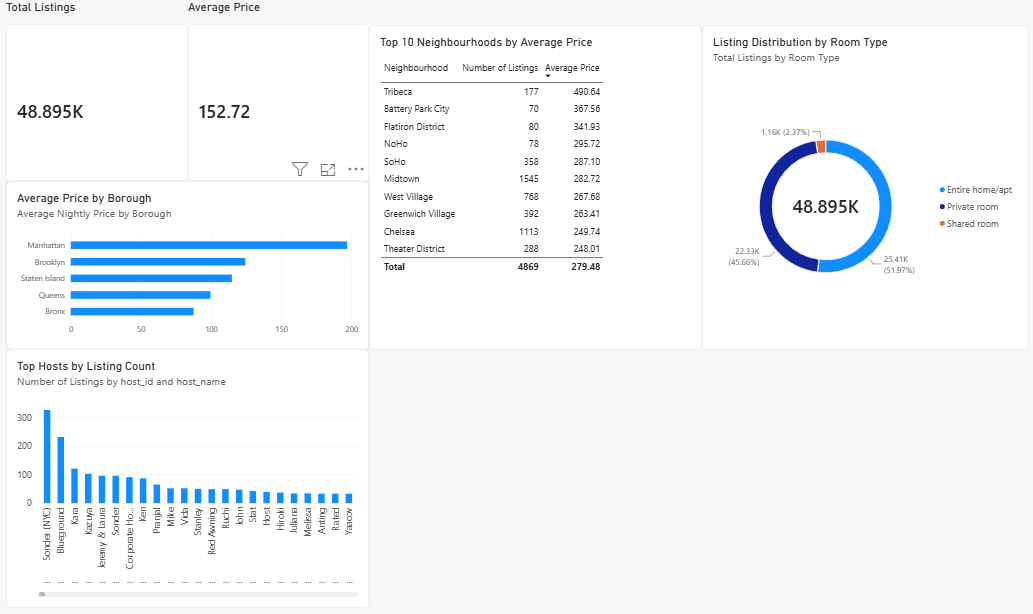

Layout of this report page (visuals, bound fields, positions):
{"tool":"powerbi","page":{"name":"Page 1","canvas":[1920,1080],"ordinal":0},"visuals":[{"type":"cardVisual","title":"Total Listings","fields":{"Data":["CountNonNull(public listings.id)"]},"box":[10,0,280,280],"z":0},{"type":"cardVisual","title":"Average Price","fields":{"Data":["Avg(public listings.price)"]},"box":[289.8,0,280,280],"z":1000},{"type":"clusteredBarChart","title":"Average Price by Borough","fields":{"Category":["public listings.neighbourhood_group"],"Y":["Avg(public listings.price)"]},"box":[9.5,280.3,560.6,259.9],"z":2000},{"type":"donutChart","title":"Listing Distribution by Room Type","fields":{"Category":["public listings.room_type"],"Y":["CountNonNull(public listings.id)"]},"box":[1084.3,38.6,505.1,502],"z":3000},{"type":"tableEx","title":"Top 10 Neighbourhoods by Average Price","fields":{"Values":["public listings.neighbourhood","CountNonNull(public listings.id)","public listings.Qualifying Avg Price"]},"box":[570,38.6,514.4,502],"z":4000},{"type":"columnChart","title":"Top Hosts by Listing Count","fields":{"Category":["public listings.host_id","public listings.host_name"],"Y":["CountNonNull(public listings.id)"]},"box":[9.3,539.1,560.7,400.1],"z":5000}]}

Visuals, with their boxes on the page's 1920x1080 design canvas (x1, y1, x2, y2). These are canvas units, not pixel positions in the 1033x614 screenshot, which may show the page scaled, cropped or inside an application window:
"Total Listings" cardVisual: x1=10 y1=0 x2=290 y2=280
"Average Price" cardVisual: x1=290 y1=0 x2=570 y2=280
"Average Price by Borough" clusteredBarChart: x1=10 y1=280 x2=570 y2=540
"Listing Distribution by Room Type" donutChart: x1=1084 y1=39 x2=1589 y2=541
"Top 10 Neighbourhoods by Average Price" tableEx: x1=570 y1=39 x2=1084 y2=541
"Top Hosts by Listing Count" columnChart: x1=9 y1=539 x2=570 y2=939
